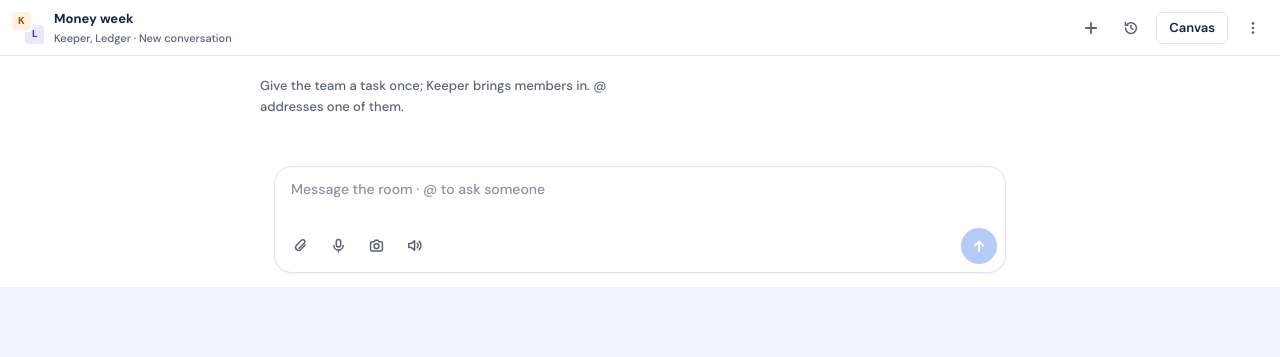
Test: the room header menu › is about the group: members, rename, clear and delete — never links to its agents
Click the button with test id "chat-menu": coordinates (1253, 28) [1238,12,1268,42]
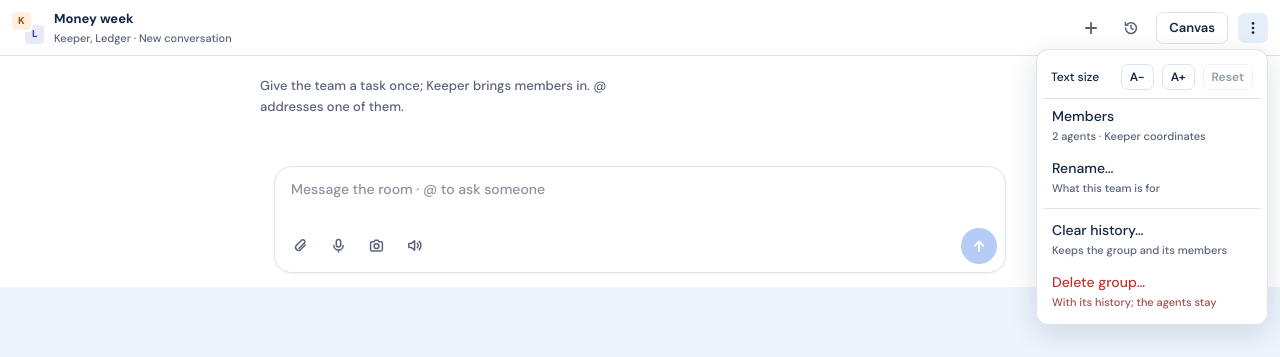
Check: the text "2 agents · Keeper coordinates" is shown, box [1052,128,1206,144]
Click the menu item with test id "group-delete": coordinates (1152, 291) [1043,265,1261,318]
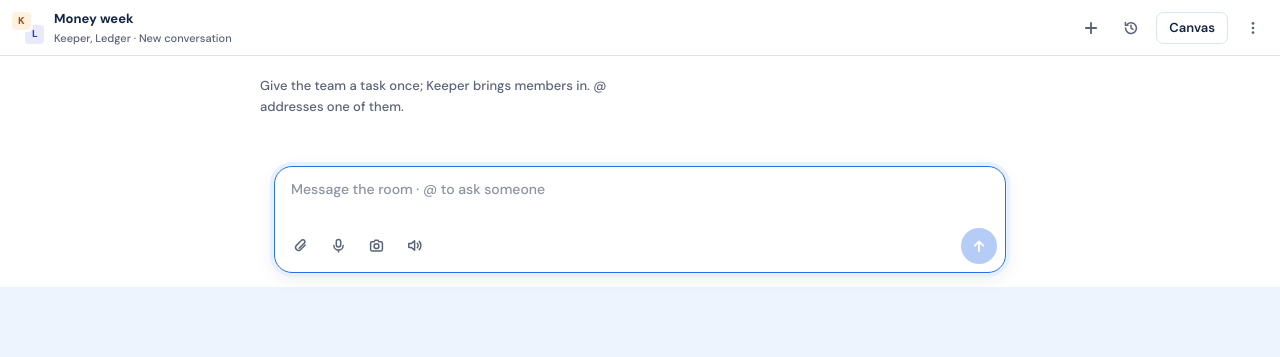
Check: the menu is gone
